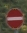No entry: (5, 6, 22, 28)
